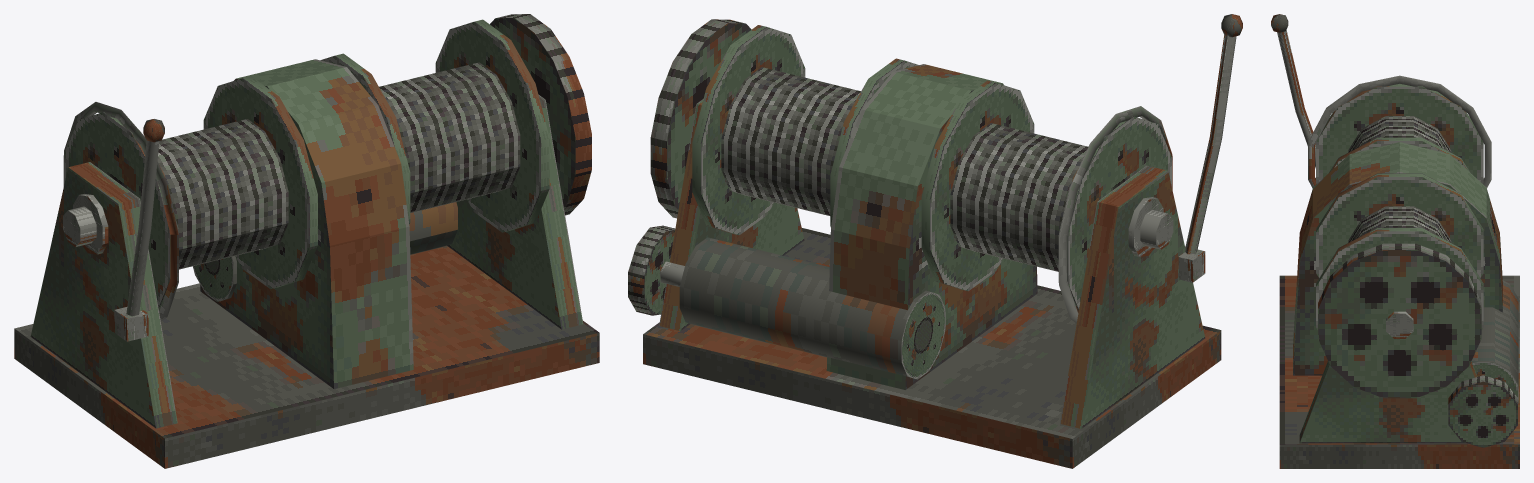
File: deck_winch.glb
3 renders of one model, left to right at view 1: azimuth 30°, elevation 25°; view 2: azimuth 150°, elevation 25°; view 3: azimuth 270°, elevation 25°, orthographic. The views are drawn at different scales.
Parts seen in each view (by area): view 1: deck_winch; view 2: deck_winch; view 3: deck_winch.
Part boxes in pixels (x1=…): deck_winch: x1=14, y1=14, x2=599, y2=468; deck_winch: x1=628, y1=14, x2=1242, y2=468; deck_winch: x1=1271, y1=14, x2=1519, y2=468.
Size of the model in its own units: 1.32 by 0.93 by 0.746.
Materials: 1 (1 with a texture image).
